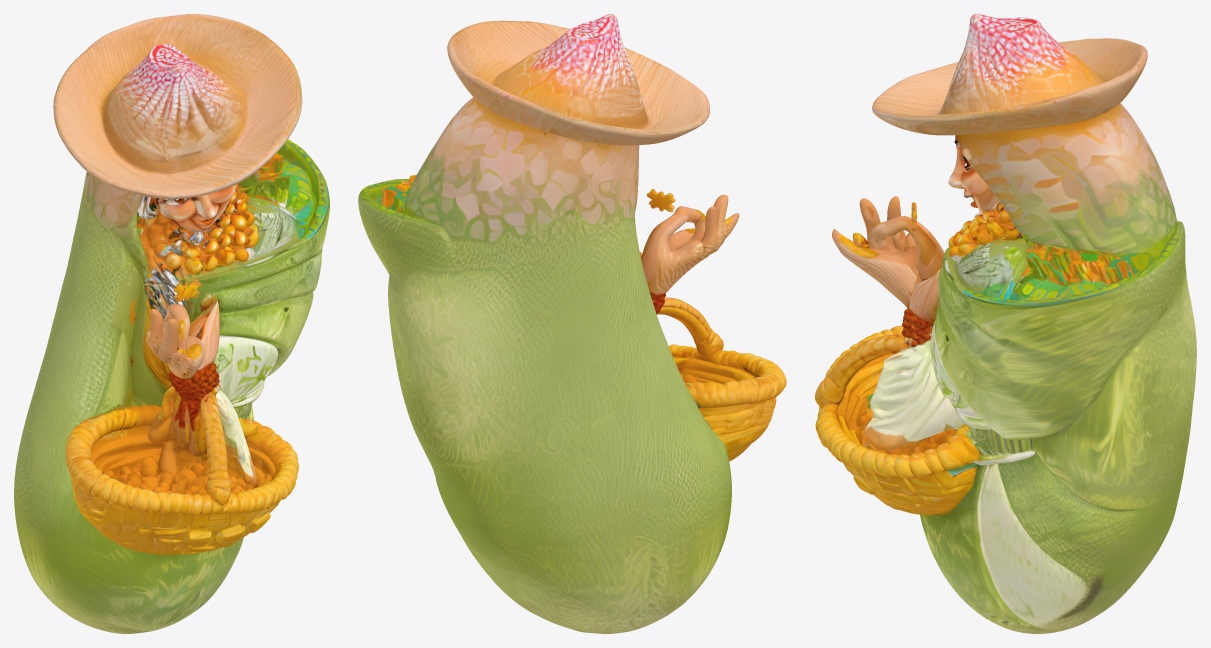
Rendered from mama-cotacachi.glb.
The picture shows the model from 3 angles, left to right: view 1: azimuth 30°, elevation 25°; view 2: azimuth 150°, elevation 25°; view 3: azimuth 270°, elevation 25°; orthographic projection. The views are drawn at different scales.
Visible parts, largest first — view 1: model; view 2: model; view 3: model.
Boxes of the visible parts, x1,y1,x2,y2 form: model: (14,14,329,633); model: (358,14,786,633); model: (815,14,1196,633).
Size of the model in its own units: 1.07 by 1.88 by 1.05.
Materials: 1 (1 with a texture image).
